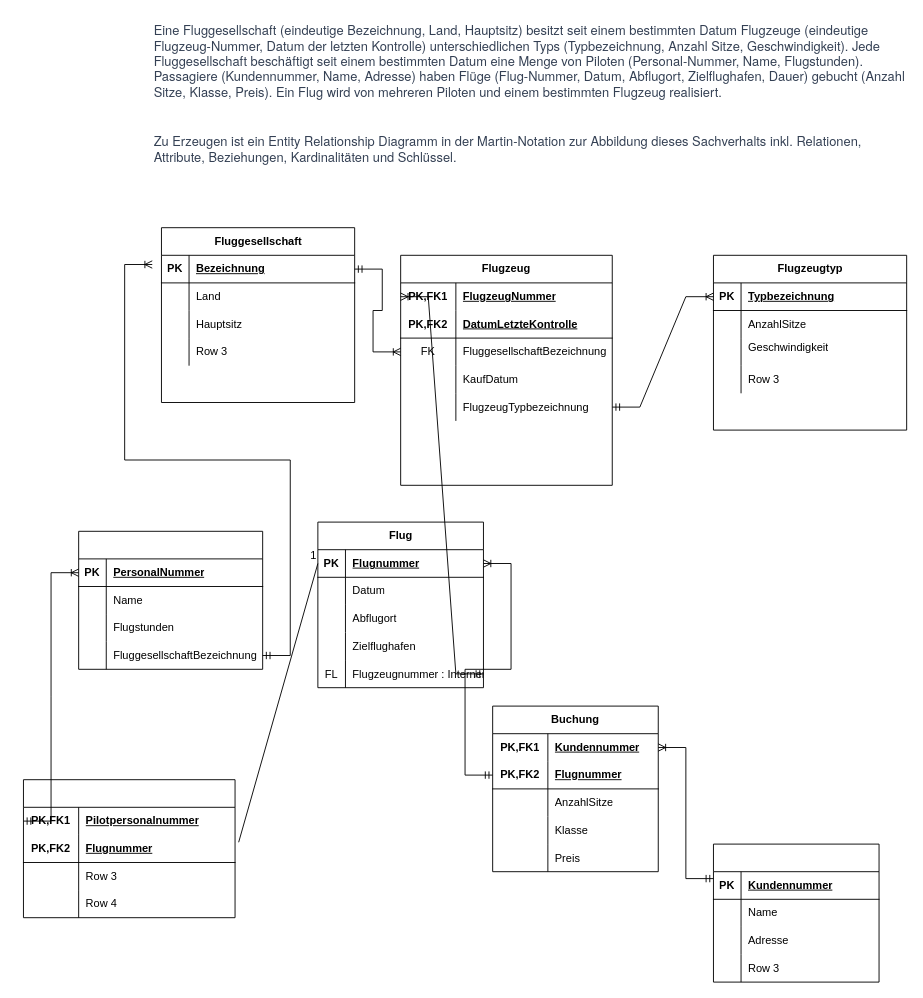
Some shapes in this 923 by 998 pixel diagram are drawn without their labels. Here are the shapes that lost their labels. From the top down, the box of each, then its label:
(78, 530, 263, 669): Pilot
(23, 779, 235, 918): PilotFlug
(713, 843, 879, 982): Passagier
